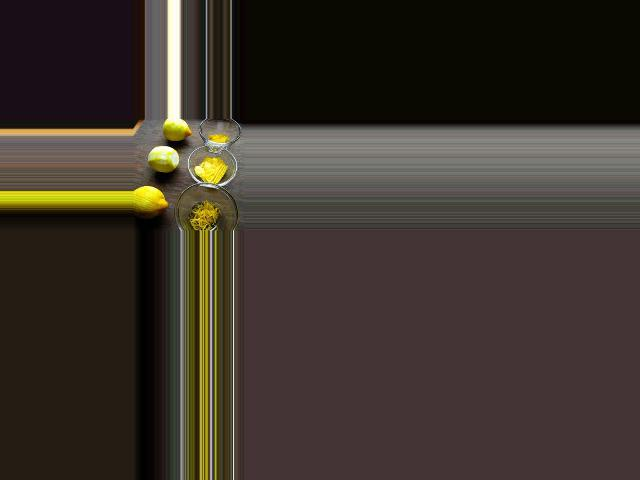lemon: (135, 186, 172, 216)
